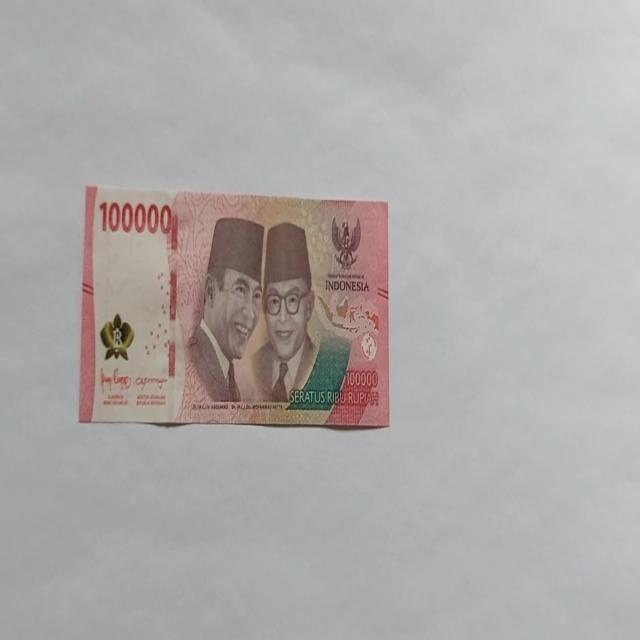seratus ribu rupiah: (78, 184, 390, 428), (175, 215, 265, 421)
